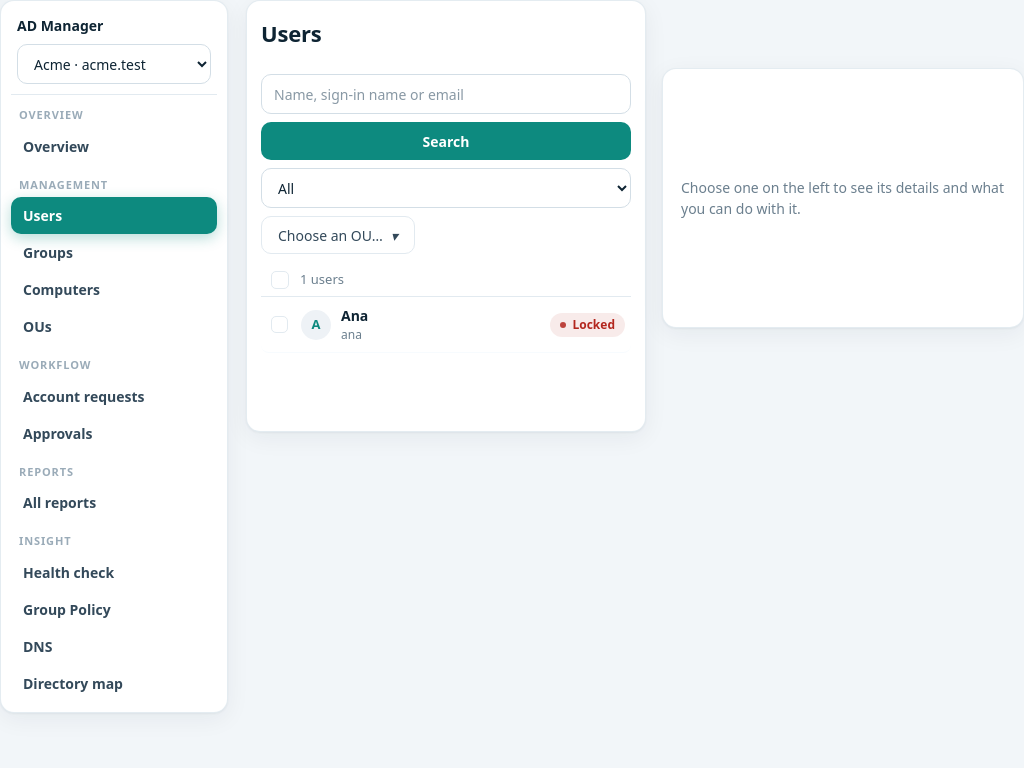
the users list opens a panel that offers only what the person may do, and the menu hides what they cannot
Click the text "Ana" at (355, 316), box [341,306,368,325]
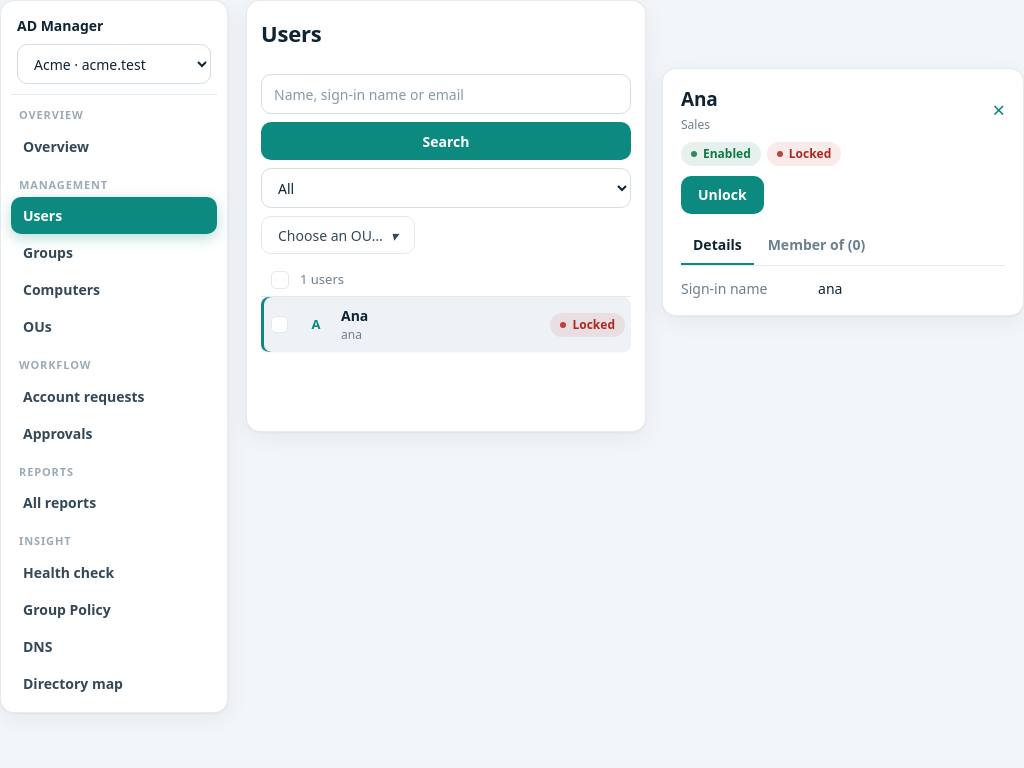
expect the button "Unlock" is shown: met, box [681,176,764,214]
